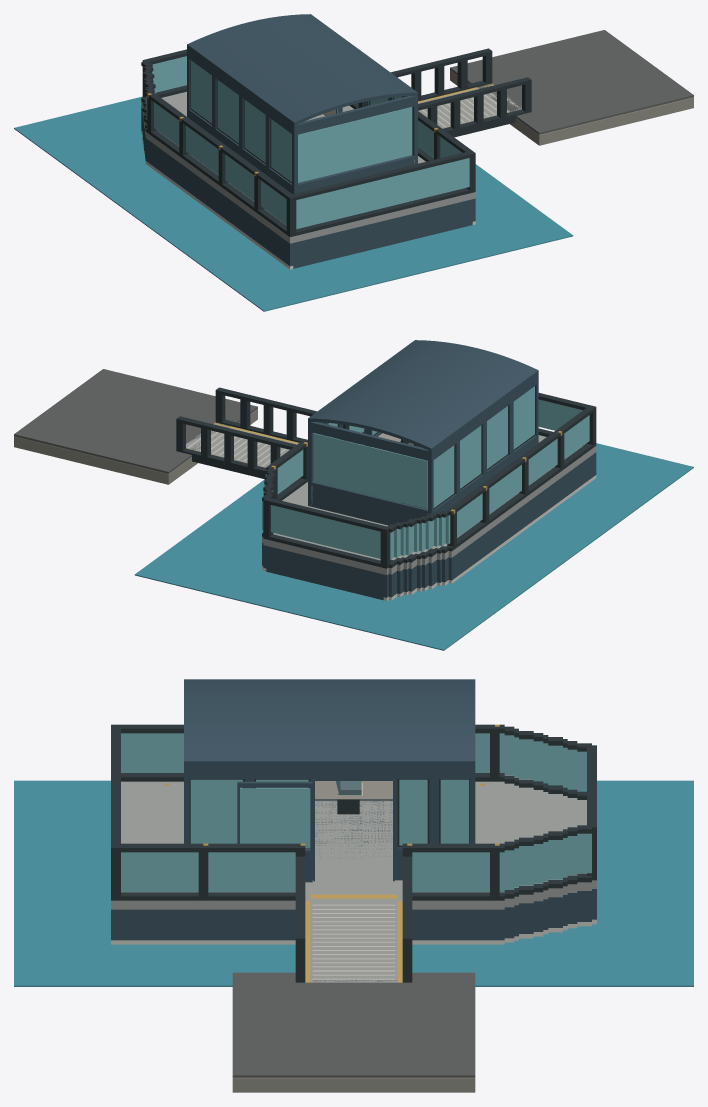
3 renders of one model, top to bottom at view 1: azimuth 30°, elevation 25°; view 2: azimuth 150°, elevation 25°; view 3: azimuth 270°, elevation 25°, orthographic. The views are drawn at different scales.
Parts seen in each view (by area): view 1: 独立乘舱壳、真实窗封和常开侧舱口, 平水线视觉与龙骨检修托, 渡船甲板舷栏和登离缺口组件, 石铺面与混凝土承板, 渡船船艏/船底体素组件, 码头至渡船真实登离接板; view 2: 独立乘舱壳、真实窗封和常开侧舱口, 平水线视觉与龙骨检修托, 渡船甲板舷栏和登离缺口组件, 石铺面与混凝土承板, 渡船船艏/船底体素组件, 码头至渡船真实登离接板; view 3: 平水线视觉与龙骨检修托, 独立乘舱壳、真实窗封和常开侧舱口, 渡船船艏/船底体素组件, 渡船甲板舷栏和登离缺口组件, 石铺面与混凝土承板, 码头至渡船真实登离接板, 客座软垫、金属承脚与独立织带.
Part boxes in pixels (box(x1,y1,x2,y2)): 独立乘舱壳、真实窗封和常开侧舱口: box(187, 14, 417, 193); 平水线视觉与龙骨检修托: box(14, 96, 573, 311); 渡船甲板舷栏和登离缺口组件: box(141, 49, 475, 237); 石铺面与混凝土承板: box(450, 30, 693, 145); 渡船船艏/船底体素组件: box(141, 91, 475, 269); 码头至渡船真实登离接板: box(391, 48, 531, 137); 独立乘舱壳、真实窗封和常开侧舱口: box(308, 340, 538, 525); 平水线视觉与龙骨检修托: box(134, 431, 693, 650); 渡船甲板舷栏和登离缺口组件: box(262, 393, 596, 568); 石铺面与混凝土承板: box(14, 369, 257, 484); 渡船船艏/船底体素组件: box(262, 435, 596, 600); 码头至渡船真实登离接板: box(176, 387, 316, 484); 平水线视觉与龙骨检修托: box(14, 780, 693, 986); 独立乘舱壳、真实窗封和常开侧舱口: box(184, 679, 475, 882); 渡船船艏/船底体素组件: box(111, 781, 596, 944); 渡船甲板舷栏和登离缺口组件: box(111, 724, 596, 900); 石铺面与混凝土承板: box(232, 972, 475, 1092); 码头至渡船真实登离接板: box(295, 856, 412, 982); 客座软垫、金属承脚与独立织带: box(332, 781, 362, 814).
Size of the model in its own units: 16.5 by 5.52 by 14.
Materials: 20 (20 with a texture image).
